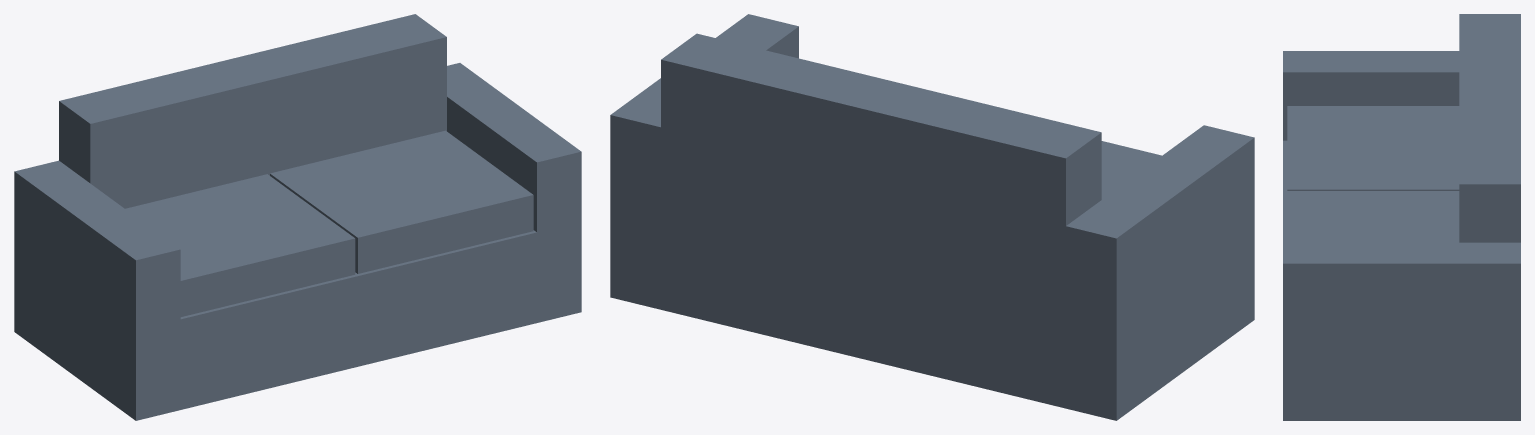
The picture shows the model from 3 angles, left to right: view 1: azimuth 30°, elevation 25°; view 2: azimuth 150°, elevation 25°; view 3: azimuth 270°, elevation 25°; orthographic projection. The views are drawn at different scales.
Parts seen in each view (by area): view 1: sofa_fabric; view 2: sofa_fabric; view 3: sofa_fabric.
Part boxes in pixels (x1=…): sofa_fabric: x1=14, y1=14, x2=581, y2=420; sofa_fabric: x1=610, y1=14, x2=1254, y2=420; sofa_fabric: x1=1283, y1=14, x2=1520, y2=420.
Bounding box in the file's own units: 1.8 × 0.85 × 0.85.
